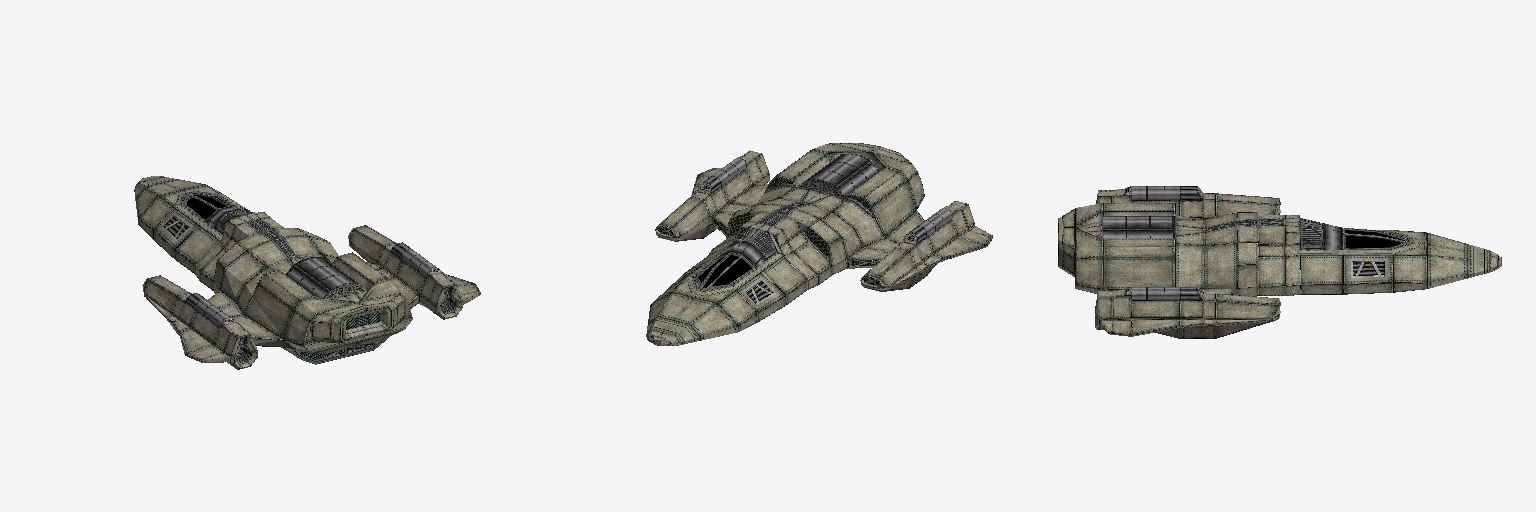
3 views of the same model, side by side, from view 1: azimuth 30°, elevation 25°; view 2: azimuth 150°, elevation 25°; view 3: azimuth 270°, elevation 25° (orthographic).
Parts seen in each view (by area): view 1: Cube.008_Cube.014; view 2: Cube.008_Cube.014; view 3: Cube.008_Cube.014.
Part boxes in pixels (x1,y1,x2,y2): Cube.008_Cube.014: (134,176,480,369); Cube.008_Cube.014: (646,143,992,345); Cube.008_Cube.014: (1058,186,1501,338).
Size of the model in its own units: 13.54 by 3.27 by 17.92.
Materials: 5 (3 with a texture image).